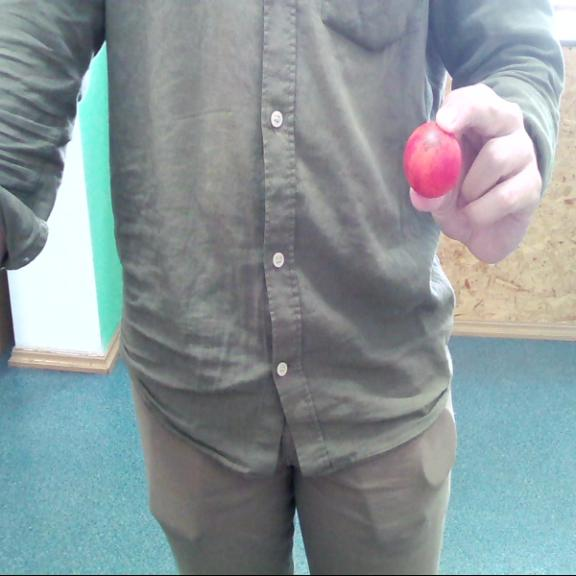ball: (403, 118, 461, 197)
